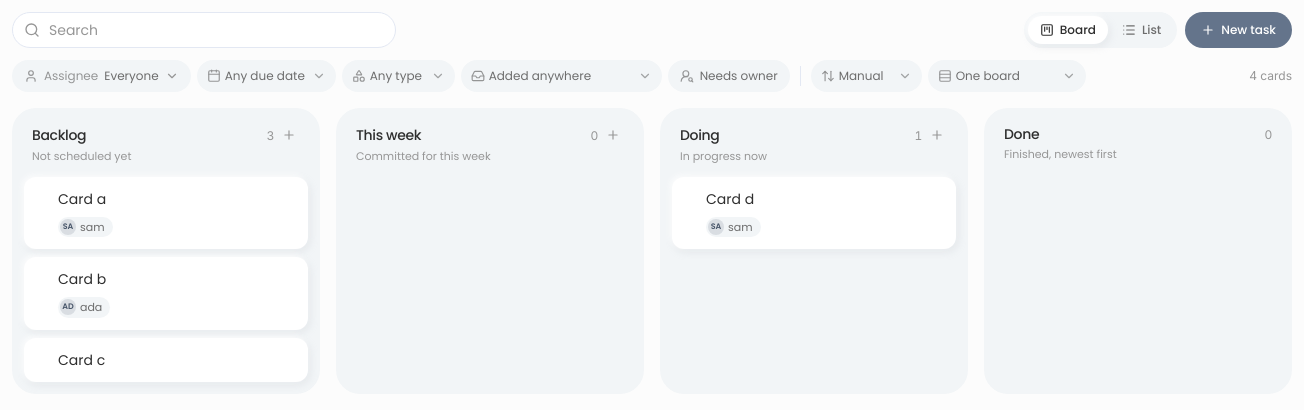
Test case: TaskBoard: whose cards › a person on the cards can be picked, and Unassigned beside them
The image size is (1304, 410).
Click the button "Assignee Everyone". click: (101, 76)
box: left=12, top=60, right=191, bottom=92
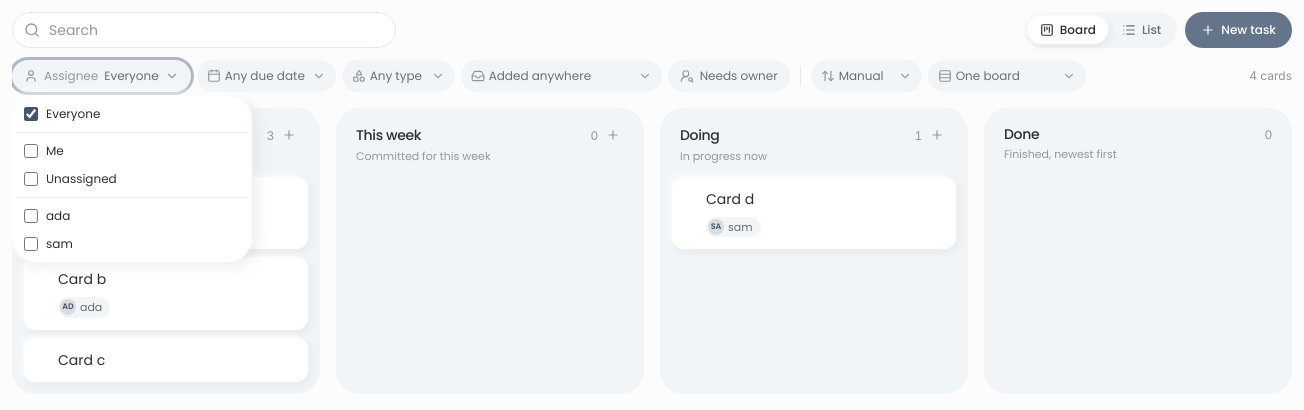
Click the checkbox labelled "ada". click: (31, 216)
box: left=24, top=209, right=38, bottom=223
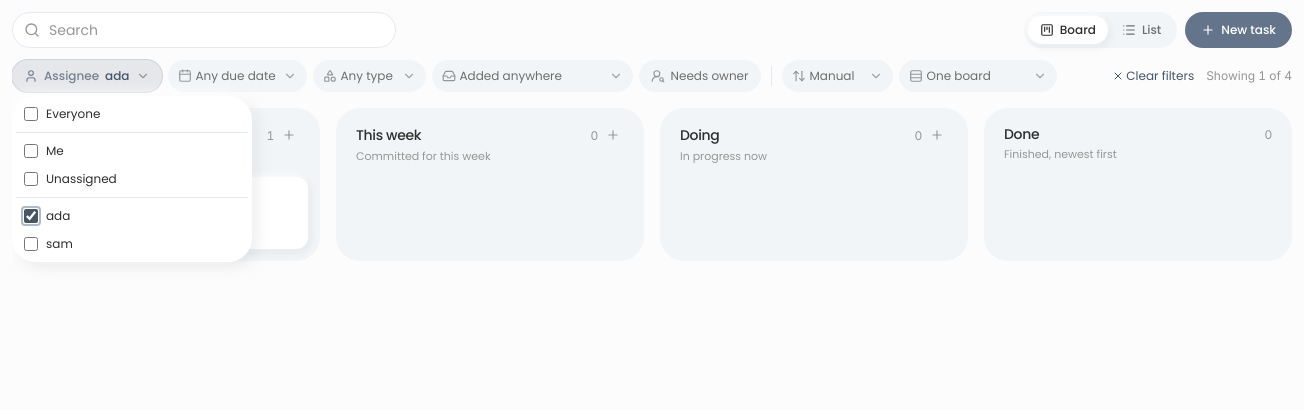
Click the checkbox labelled "Unassigned". click: (31, 179)
box: left=24, top=172, right=38, bottom=186
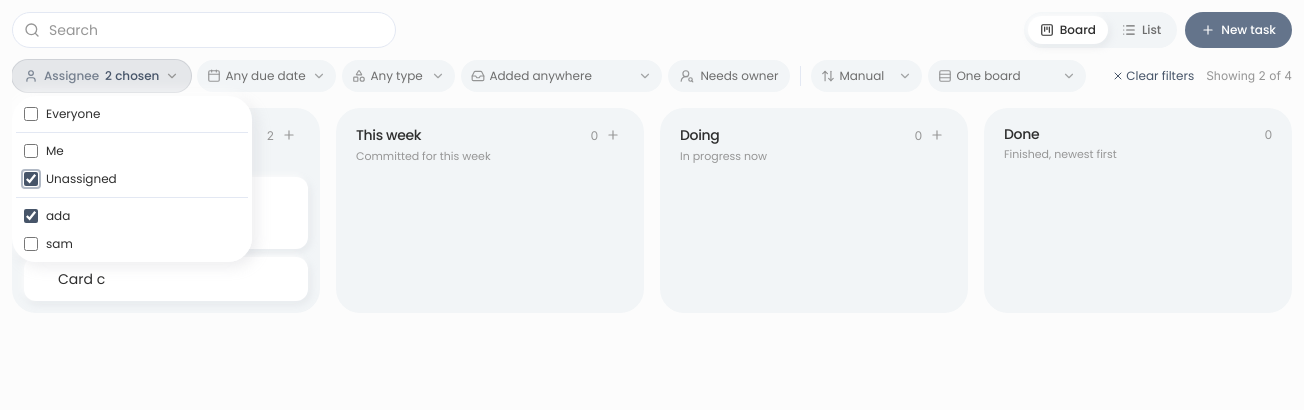
Now the text "2 chosen" is shown, box left=105, top=68, right=159, bottom=84
